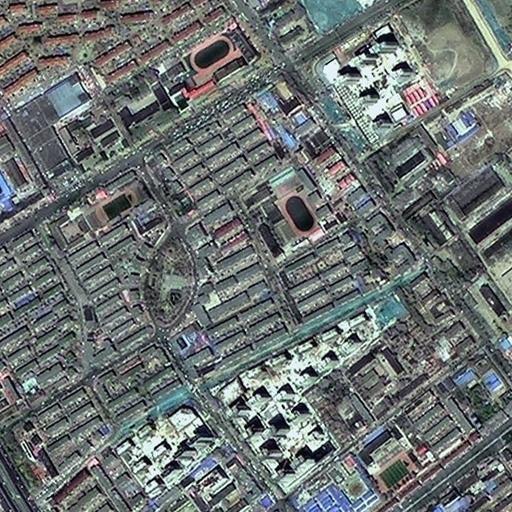school: (242, 161, 336, 262), (48, 169, 151, 250), (156, 33, 247, 111)
